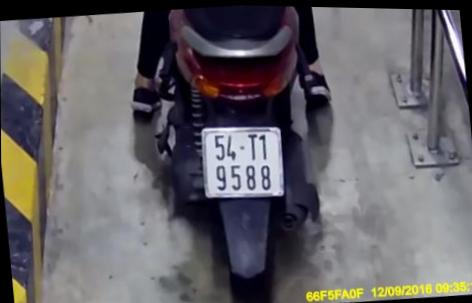LP: (197, 117, 289, 201)
